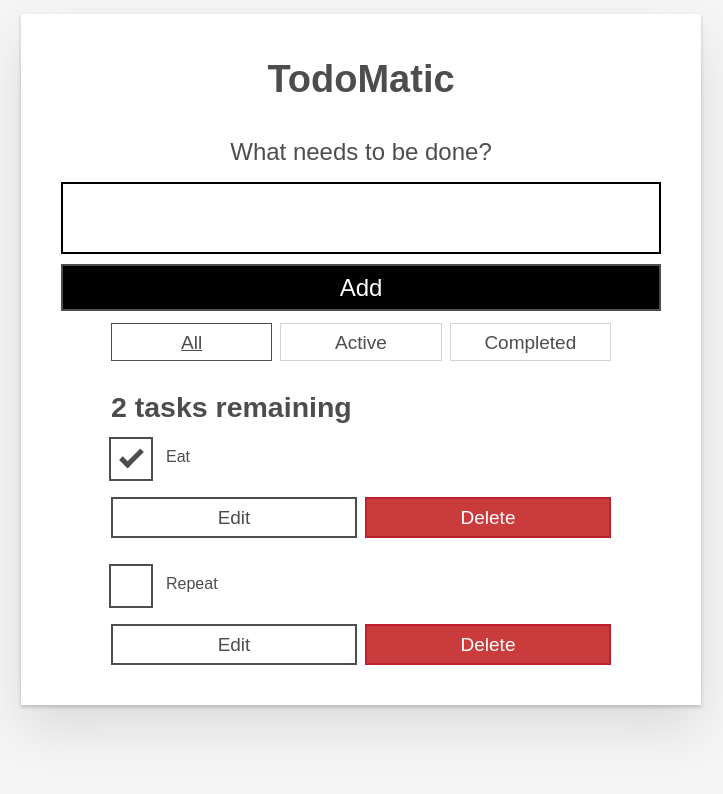
Test case: should check the functionality of todomatic › should be able to add a task
Type "Sleep" into the field with test id "new-todo-input" at (361, 218), box [61,182,661,254]
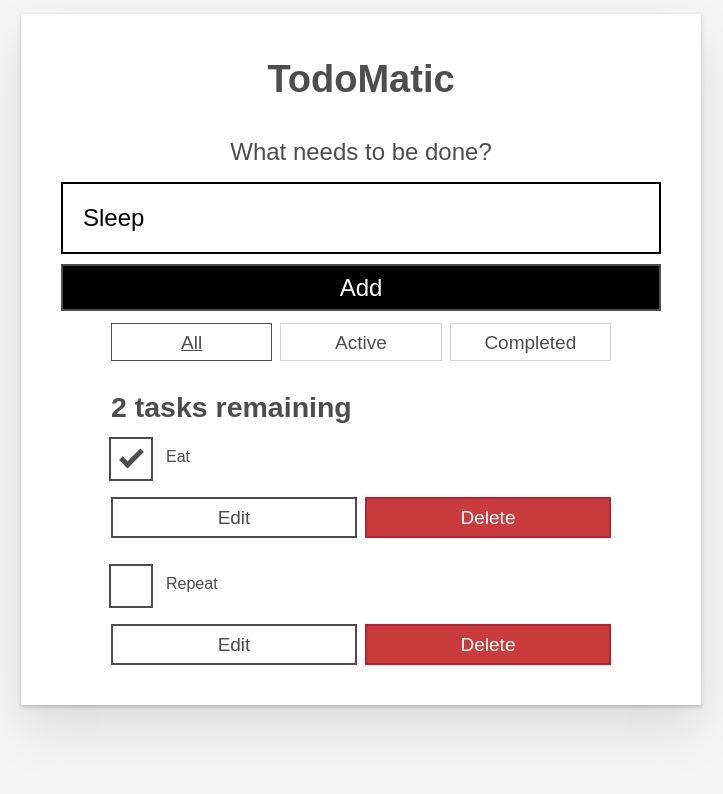
Click the button with test id "addtaskbutton" at (361, 287), box [61,264,661,311]
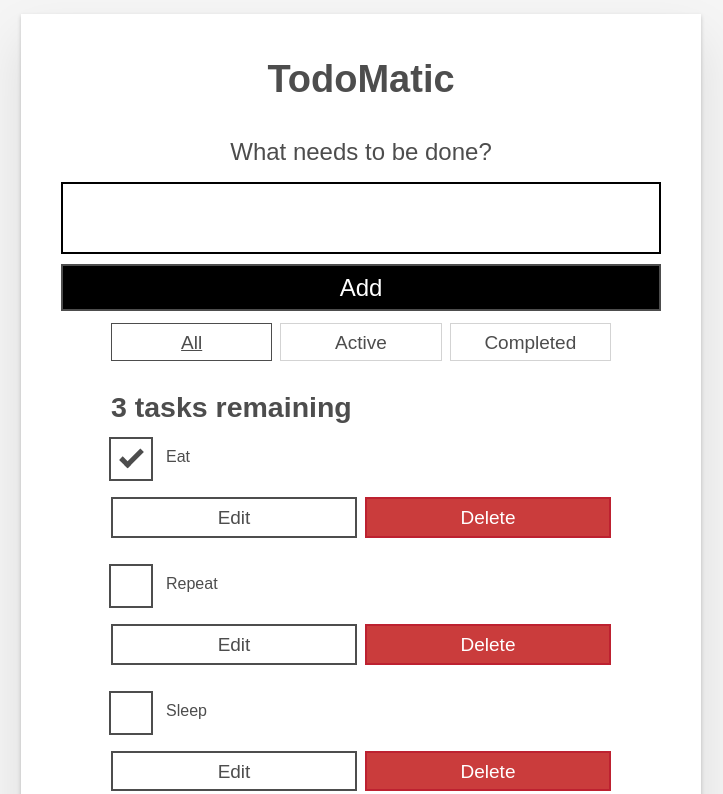
Now the number of list items is 3, box [111,439,611,538]; [111,566,611,665]; [111,693,611,791]
Now the label with test id "Sleep" reads "Sleep", box [166,702,207,719]
Now the button with test id "deletebuttontodo-2" is enabled, box [365,751,611,791]
